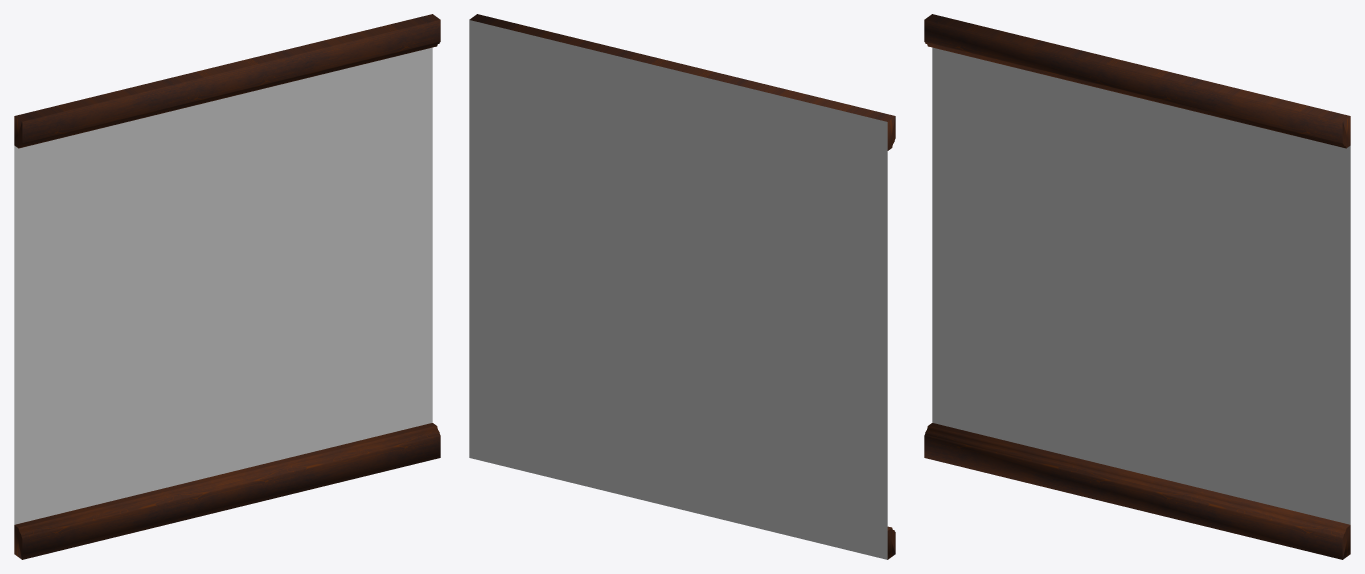
File: Mesh_Modular_Wall_3x3.fbx
3 views of the same model, side by side, from view 1: azimuth 30°, elevation 25°; view 2: azimuth 150°, elevation 25°; view 3: azimuth 330°, elevation 25° (orthographic).
Parts seen in each view (by area): view 1: Madular_Wall_3x3; view 2: Madular_Wall_3x3; view 3: Madular_Wall_3x3.
Part boxes in pixels (bbox=[...]): Madular_Wall_3x3: bbox=[14, 14, 440, 559]; Madular_Wall_3x3: bbox=[469, 14, 895, 559]; Madular_Wall_3x3: bbox=[924, 14, 1350, 559].
Bounding box in the file's own units: 3 × 3 × 0.1.
